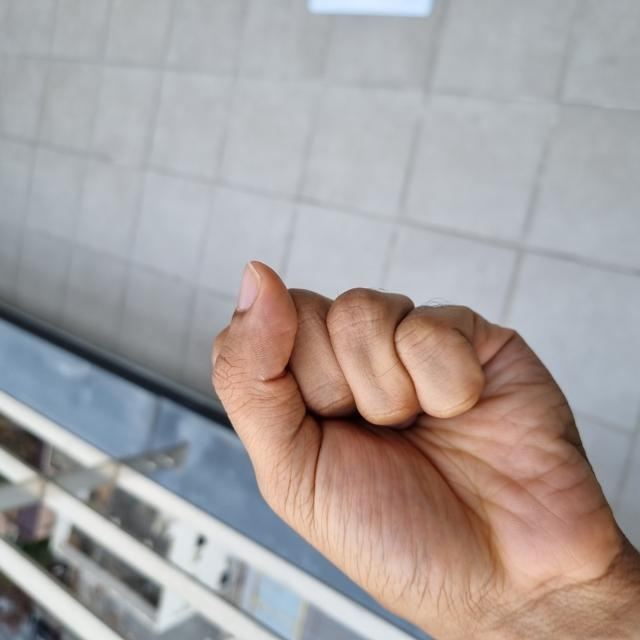Rock: (0, 210, 378, 627)
